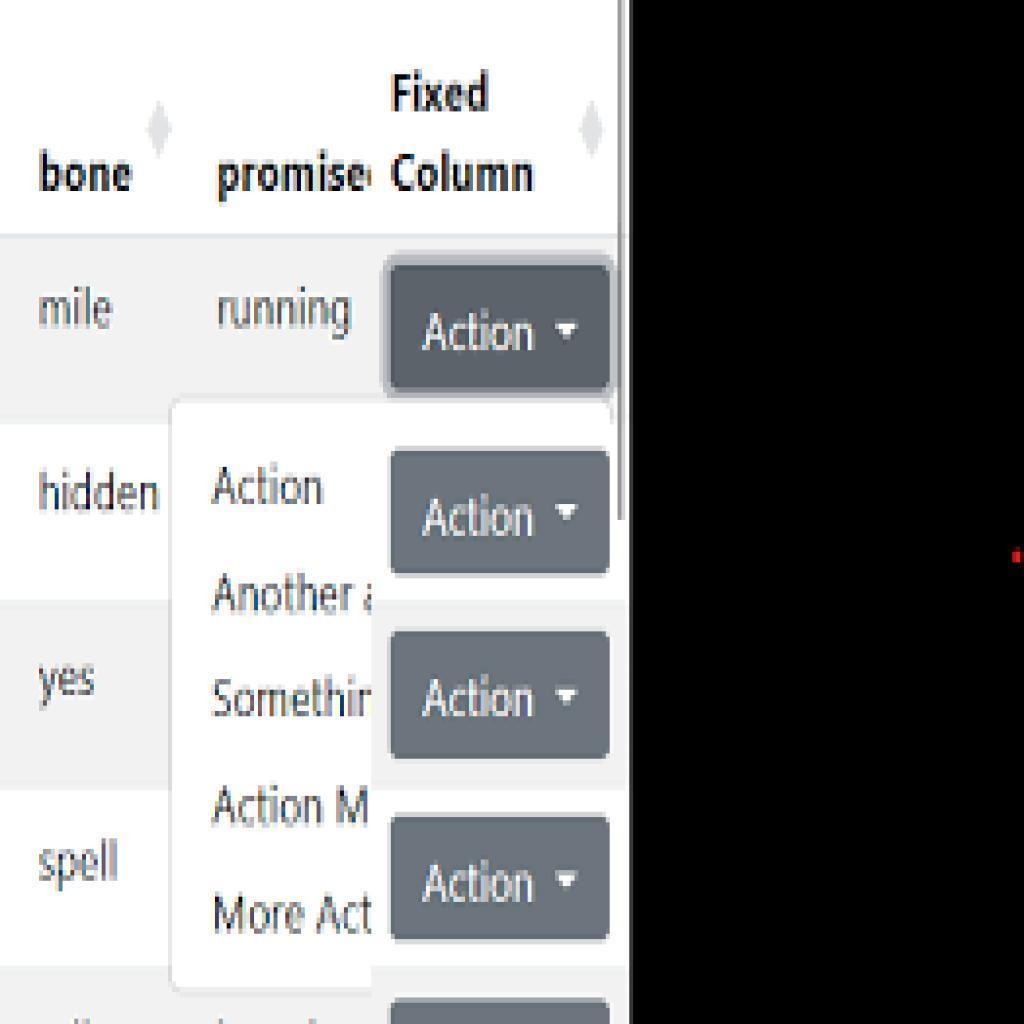dropdown: (392, 633, 611, 761), (389, 265, 611, 390), (390, 450, 610, 575), (390, 818, 612, 940)
